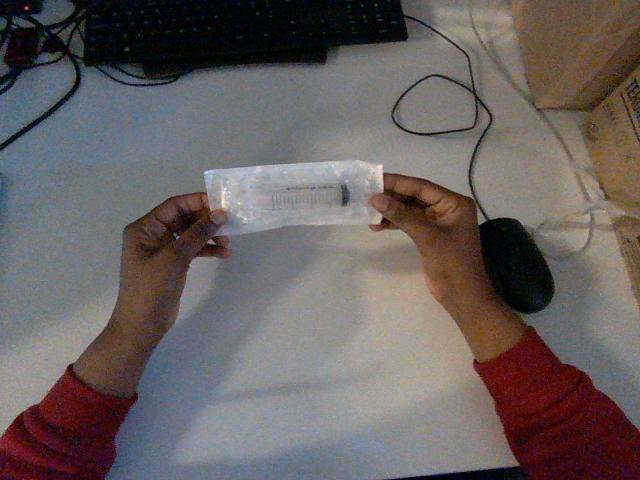syringe: (204, 160, 382, 234)
